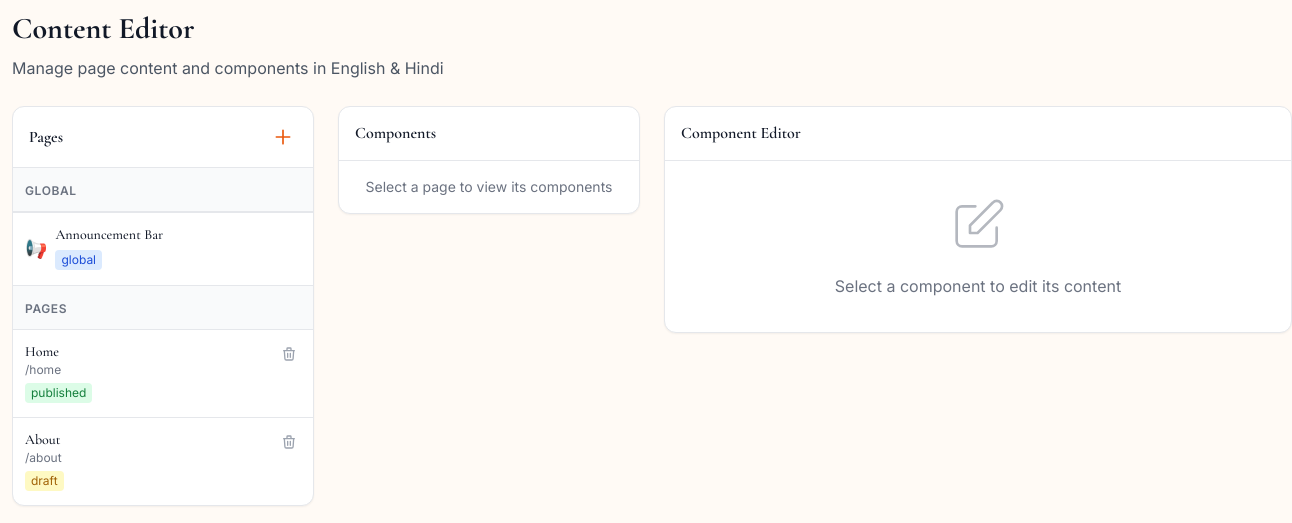
Test: CMSEditorPage - Global Components › filters global components from page component list
This screenshot has width=1292, height=523.
Click the heading "Home" at {"x": 42, "y": 351}, box [25, 343, 59, 360]
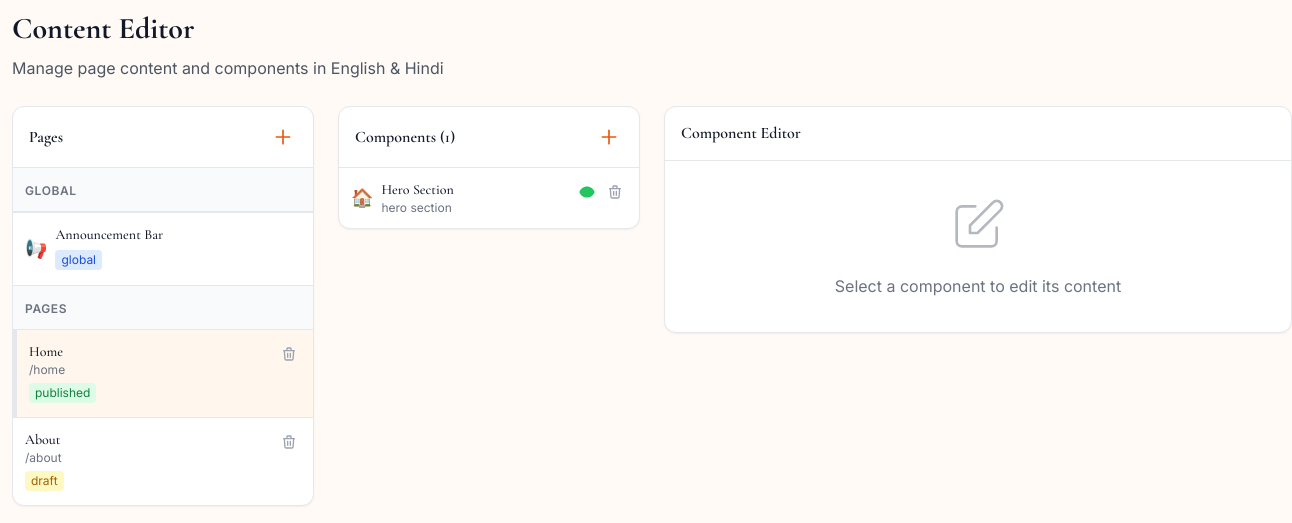
Result: the heading "Components (1)" is shown at [355, 127, 455, 148]
